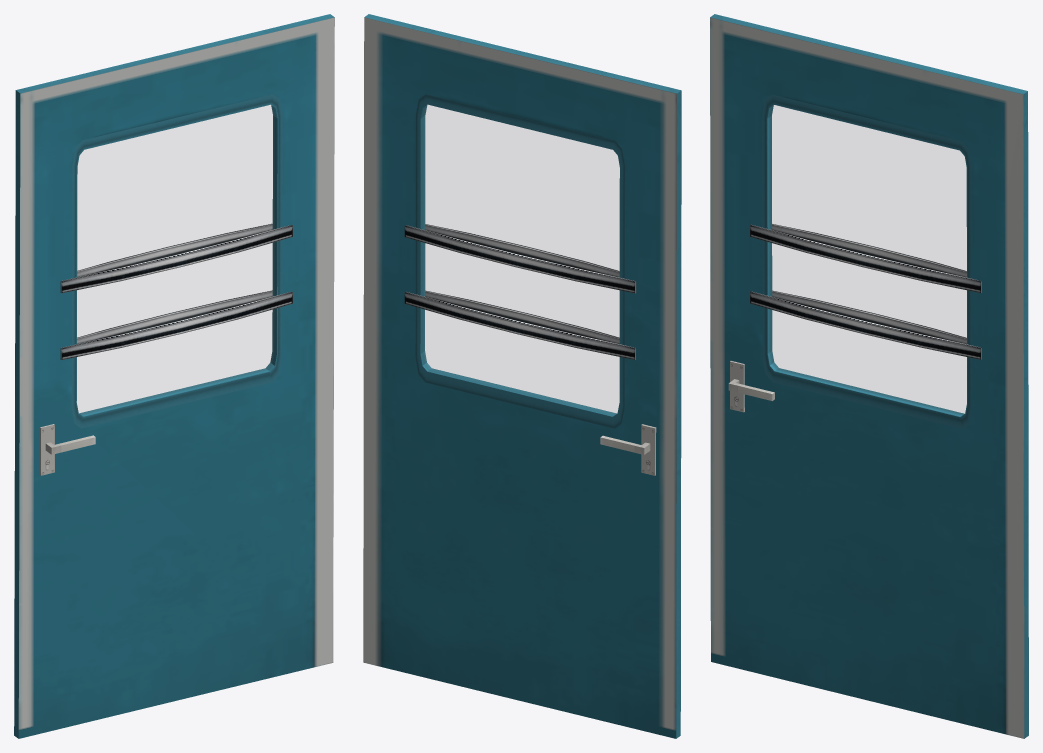
Rendered from Train02aCupe_1Door_b.FBX.
The picture shows the model from 3 angles, left to right: view 1: azimuth 30°, elevation 25°; view 2: azimuth 150°, elevation 25°; view 3: azimuth 330°, elevation 25°; orthographic projection.
Visible parts, largest first — view 1: Train02aCupe_Door1; view 2: Train02aCupe_Door1; view 3: Train02aCupe_Door1.
Part boxes in pixels (x1,y1,x2,y2): Train02aCupe_Door1: (14,14,334,738); Train02aCupe_Door1: (363,14,681,738); Train02aCupe_Door1: (710,14,1028,738).
Size of the model in its own units: 74.13 by 146 by 7.74.
